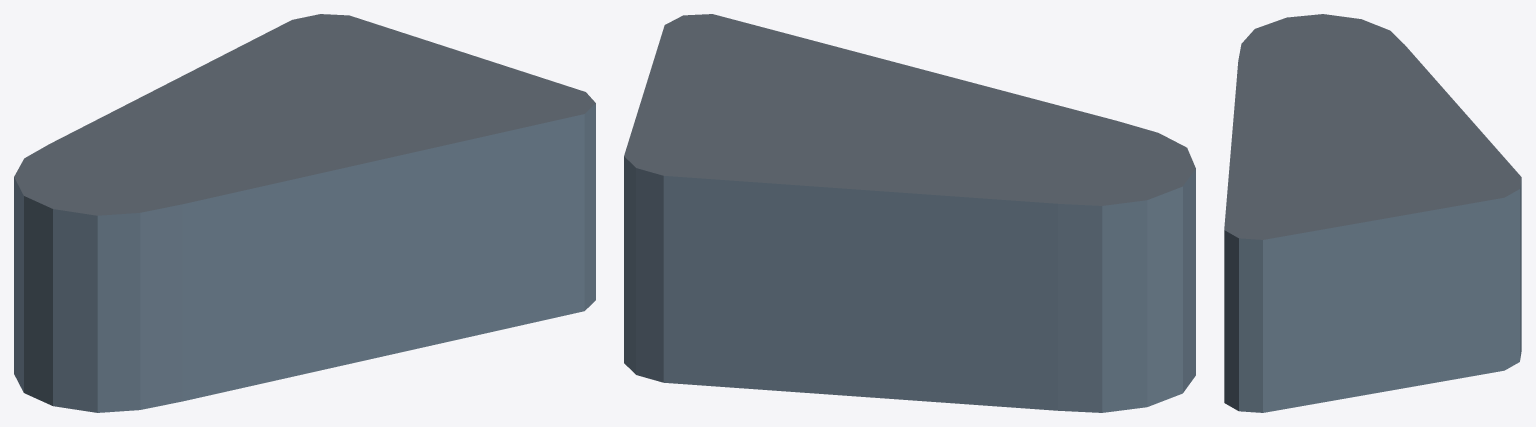
3 views of the same model, side by side, from view 1: azimuth 30°, elevation 25°; view 2: azimuth 150°, elevation 25°; view 3: azimuth 270°, elevation 25° (orthographic). The views are drawn at different scales.
Visible parts, largest first — view 1: HP-w292818816; view 2: HP-w292818816; view 3: HP-w292818816.
Part boxes in pixels (left/top/right/bottom): HP-w292818816: left=14, top=14, right=595, bottom=412; HP-w292818816: left=624, top=14, right=1195, bottom=412; HP-w292818816: left=1224, top=14, right=1521, bottom=412.
Bounding box in the file's own units: 106 × 38 × 59.24.
